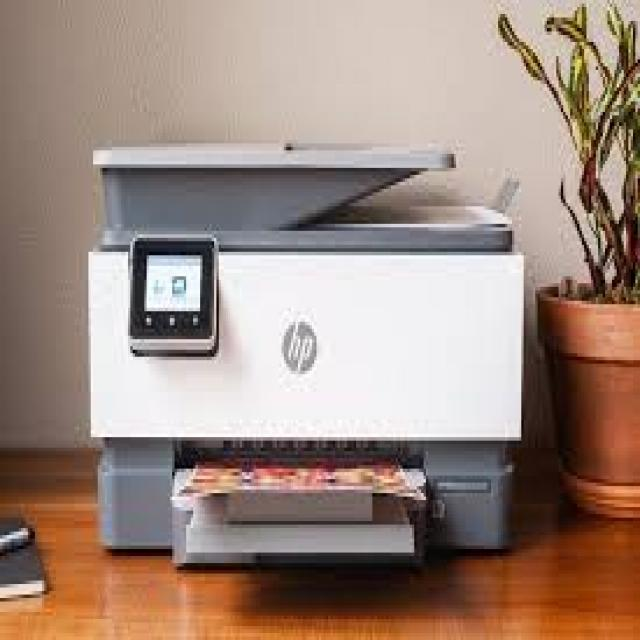printer: (54, 92, 554, 598)
